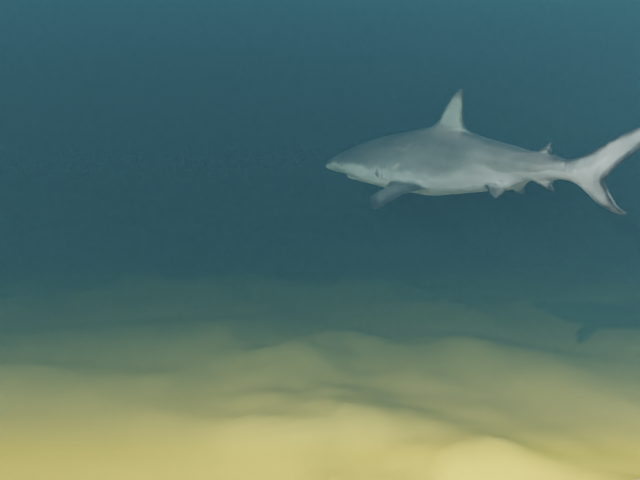Carribean Shark.001: (325, 88, 640, 215)
